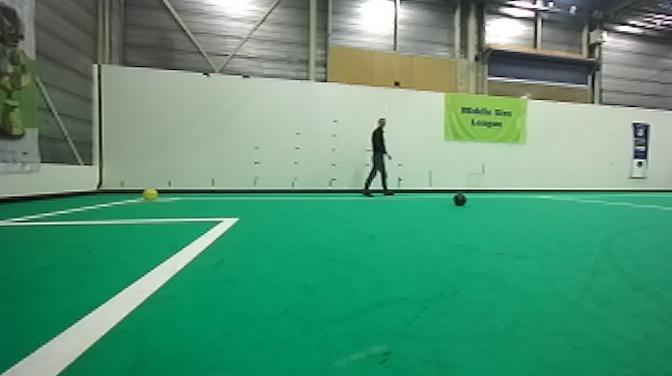ball: (140, 186, 158, 204), (452, 191, 469, 208)
human: (358, 116, 393, 199)
